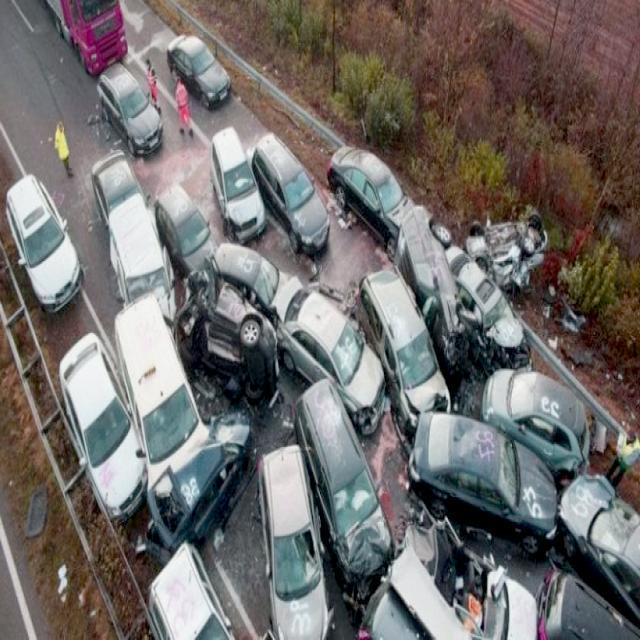accident: (90, 130, 640, 640), (260, 380, 540, 640), (358, 265, 590, 551), (328, 140, 550, 374), (484, 368, 640, 640), (174, 244, 388, 436), (113, 296, 263, 560), (280, 264, 452, 446), (152, 180, 280, 412)
